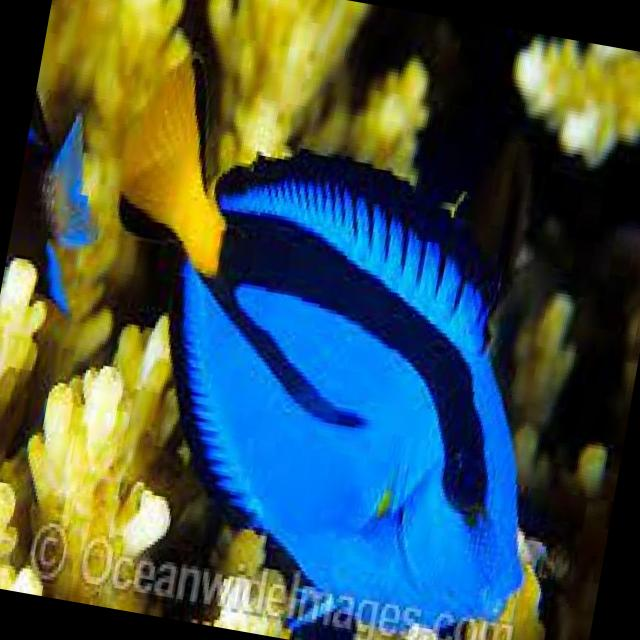BlueTang: (45, 48, 603, 640)
